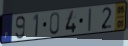0: (49, 12, 61, 36)
1: (33, 13, 39, 38)
2: (101, 6, 113, 31)
4: (65, 9, 77, 34)
9: (15, 15, 27, 40)
I: (87, 7, 93, 33)
